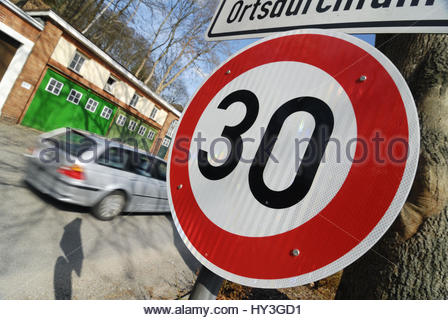Speed_limit_30km: (169, 29, 422, 288)
